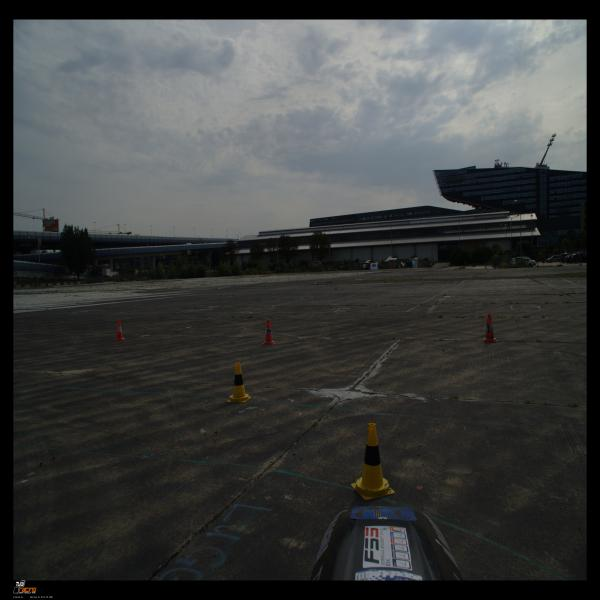orange_cone: (483, 314, 497, 342), (262, 319, 275, 345), (114, 320, 125, 341)
yellow_cone: (351, 422, 395, 500), (227, 362, 251, 403)
